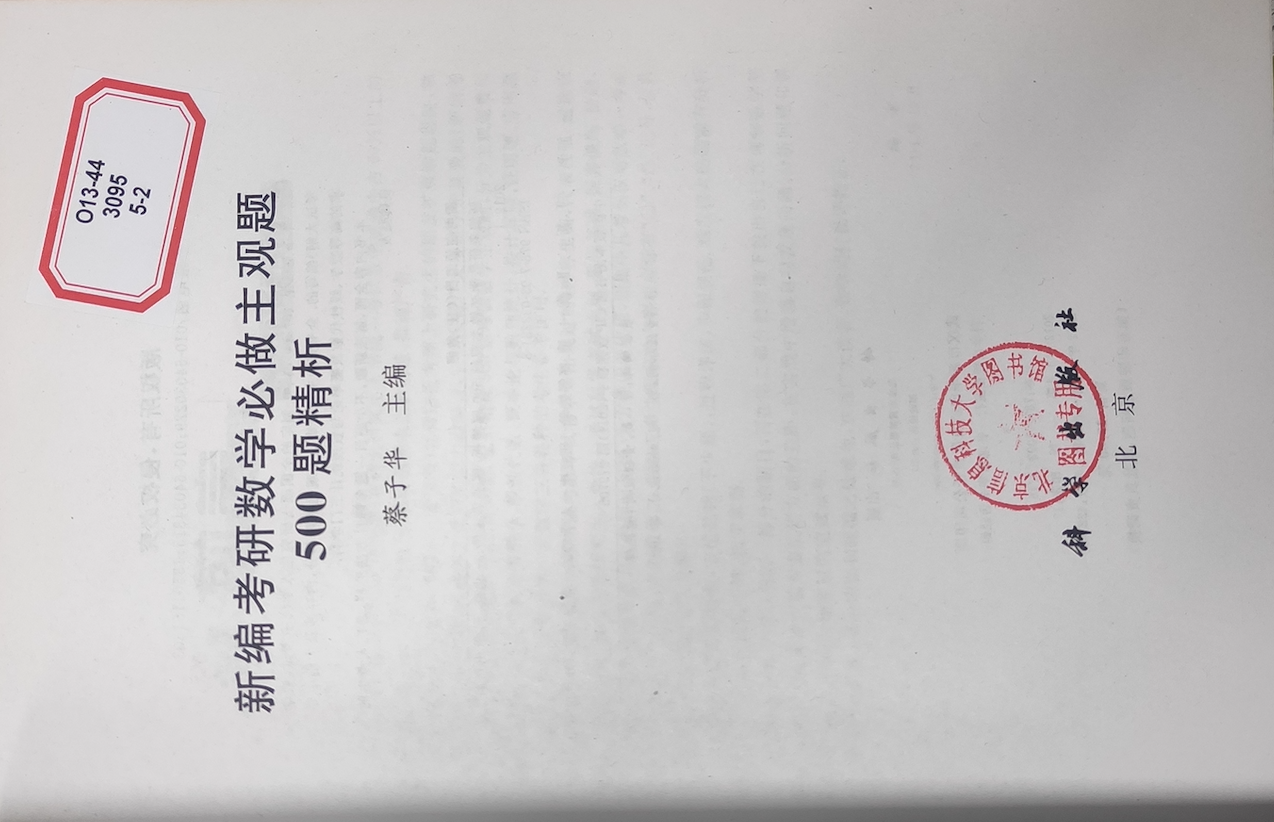Text_area: (53, 54, 422, 717), (931, 272, 1146, 608)
